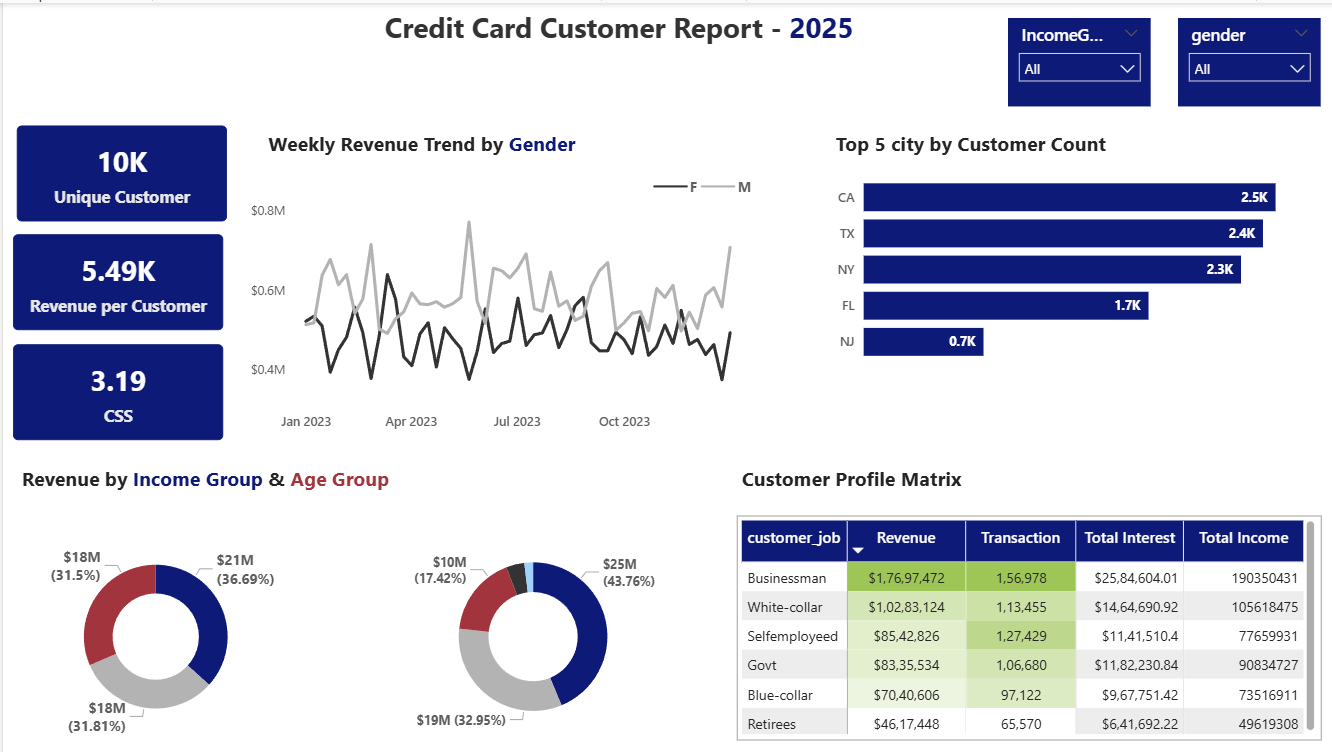

This screenshot's page, from the dashboard's own definition file:
{"tool":"powerbi","page":{"name":"CC Customers","canvas":[1280,720],"ordinal":1},"visuals":[{"type":"lineChart","fields":{"Category":["public cc_detail.week_start_date.Variation.Date Hierarchy.Year","public cc_detail.week_start_date.Variation.Date Hierarchy.Quarter","public cc_detail.week_start_date.Variation.Date Hierarchy.Month","public cc_detail.week_start_date.Variation.Date Hierarchy.Day"],"Y":["Measure_Table.Revenue"],"Series":["public cust_detail.gender"]},"box":[232.3,155.8,494.9,264],"z":0},{"type":"textbox","box":[249.6,116.9,477.6,36.1],"z":1000},{"type":"card","fields":{"Values":["Avg(public cust_detail.cust_satisfaction_score)"]},"box":[10.1,327.5,202,92.3],"z":2000},{"type":"slicer","fields":{"Values":["public cust_detail.gender"]},"box":[1126.8,14.4,137.1,85.1],"z":3000},{"type":"textbox","box":[238.7,0,704.4,70.4],"z":4000},{"type":"card","fields":{"Values":["Measure_Table.Unique Customer"]},"box":[13,116.9,202,92.3],"z":5000},{"type":"card","fields":{"Values":["Measure_Table.Revenue per Customer"]},"box":[10.1,222.2,202,92.3],"z":6000},{"type":"barChart","fields":{"Category":["public cust_detail.state_cd"],"Y":["Measure_Table.Unique Customer"]},"box":[793.5,145.7,457.4,212.1],"z":7000},{"type":"textbox","box":[793.5,116.9,477.6,36.1],"z":8000},{"type":"donutChart","fields":{"Category":["public cust_detail.IncomeGroup"],"Y":["Measure_Table.Revenue"]},"box":[10.1,507.9,274.1,199.1],"z":9000},{"type":"donutChart","fields":{"Category":["public cust_detail.AgeGroup"],"Y":["Measure_Table.Revenue"]},"box":[347.7,507.9,321.7,199.1],"z":10000},{"type":"textbox","box":[13,438.6,630.5,36.1],"z":11000},{"type":"pivotTable","fields":{"Values":["Measure_Table.Revenue","Measure_Table.Total_Transaction","Measure_Table.Total Interest","Sum(public cust_detail.income)"],"Rows":["public cust_detail.customer_job"]},"box":[704.1,492,559.8,215],"z":12000},{"type":"textbox","box":[704.1,438.6,477.6,36.1],"z":13000},{"type":"slicer","fields":{"Values":["public cust_detail.IncomeGroup"]},"box":[963.8,14.4,137.1,85.1],"z":14000}]}

Visuals, with their boxes in screenshot pixels (x1, y1, x2, y2), scaled from the page's 1280x720 canvas onto the 1332x752 screenshot:
lineChart - public cc_detail.week_start_date.Variation.Date Hierarchy.Year x public cc_detail.week_start_date.Variation.Date Hierarchy.Quarter: {"left": 242, "top": 163, "right": 757, "bottom": 438}
textbox: {"left": 260, "top": 122, "right": 757, "bottom": 160}
card - Avg(public cust_detail.cust_satisfaction_score): {"left": 11, "top": 342, "right": 221, "bottom": 438}
slicer - public cust_detail.gender: {"left": 1173, "top": 15, "right": 1315, "bottom": 104}
textbox: {"left": 248, "top": 0, "right": 981, "bottom": 74}
card - Measure_Table.Unique Customer: {"left": 14, "top": 122, "right": 224, "bottom": 218}
card - Measure_Table.Revenue per Customer: {"left": 11, "top": 232, "right": 221, "bottom": 328}
barChart - public cust_detail.state_cd x Measure_Table.Unique Customer: {"left": 826, "top": 152, "right": 1302, "bottom": 374}
textbox: {"left": 826, "top": 122, "right": 1323, "bottom": 160}
donutChart - public cust_detail.IncomeGroup x Measure_Table.Revenue: {"left": 11, "top": 530, "right": 296, "bottom": 738}
donutChart - public cust_detail.AgeGroup x Measure_Table.Revenue: {"left": 362, "top": 530, "right": 697, "bottom": 738}
textbox: {"left": 14, "top": 458, "right": 670, "bottom": 496}
pivotTable - Measure_Table.Revenue x Measure_Table.Total_Transaction: {"left": 733, "top": 514, "right": 1315, "bottom": 738}
textbox: {"left": 733, "top": 458, "right": 1230, "bottom": 496}
slicer - public cust_detail.IncomeGroup: {"left": 1003, "top": 15, "right": 1146, "bottom": 104}
